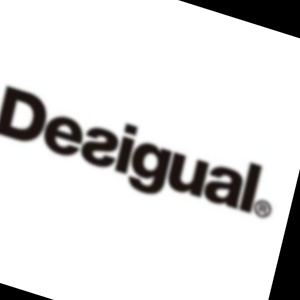desigual: (237, 96, 292, 230), (0, 14, 30, 147)
